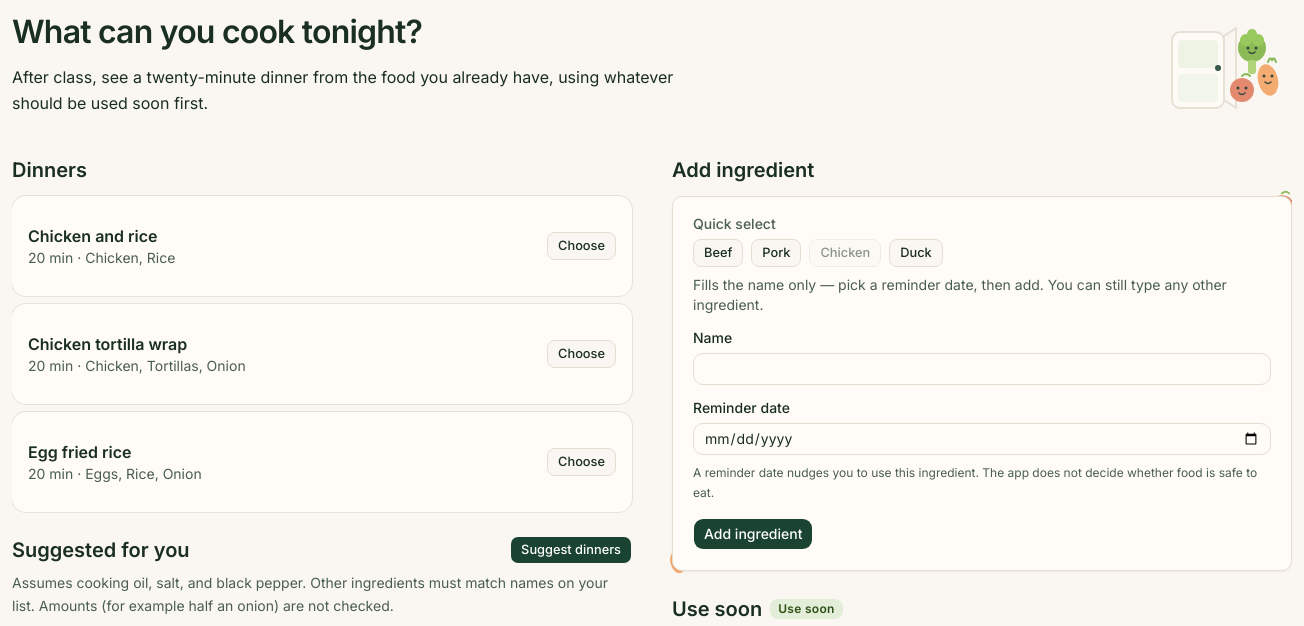
Test case: KitchenApp › rejects a duplicate available ingredient name
Check: the heading "Dinners" is shown, box 12,158 -> 87,182
Type "chicken" into the field labelled "Name" at (982, 369), box 693,353 -> 1271,385
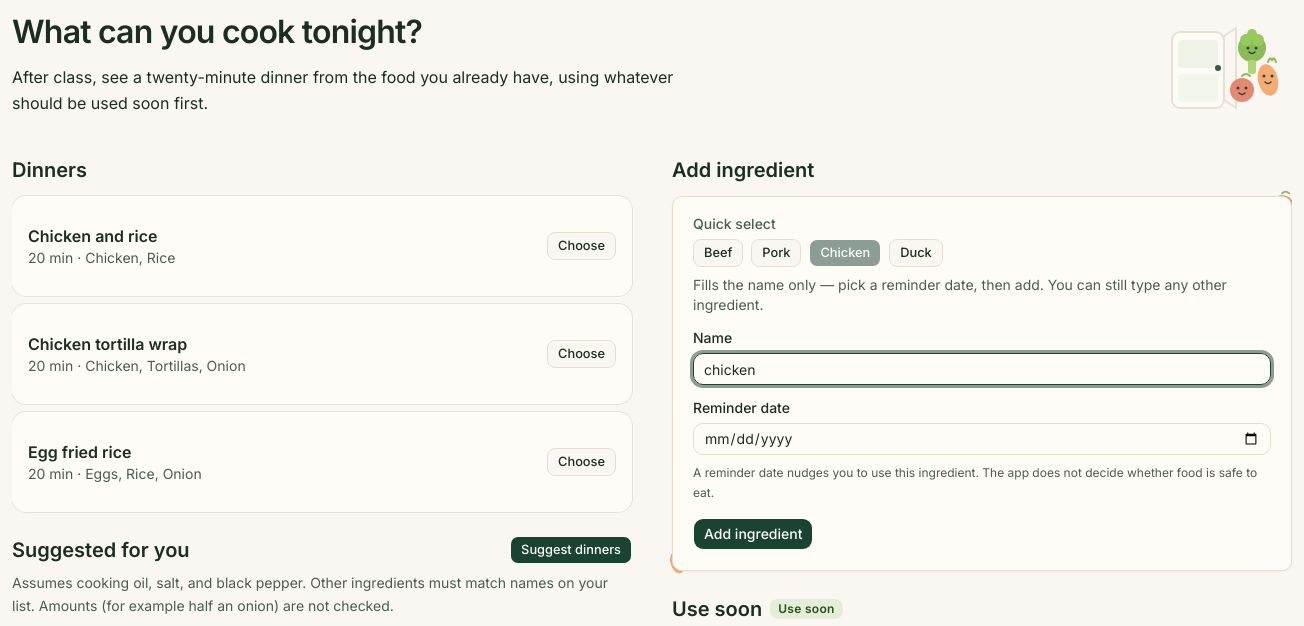
Type "2026-10-10" into the date field labelled "Reminder date" at (982, 439), box 693,423 -> 1271,455
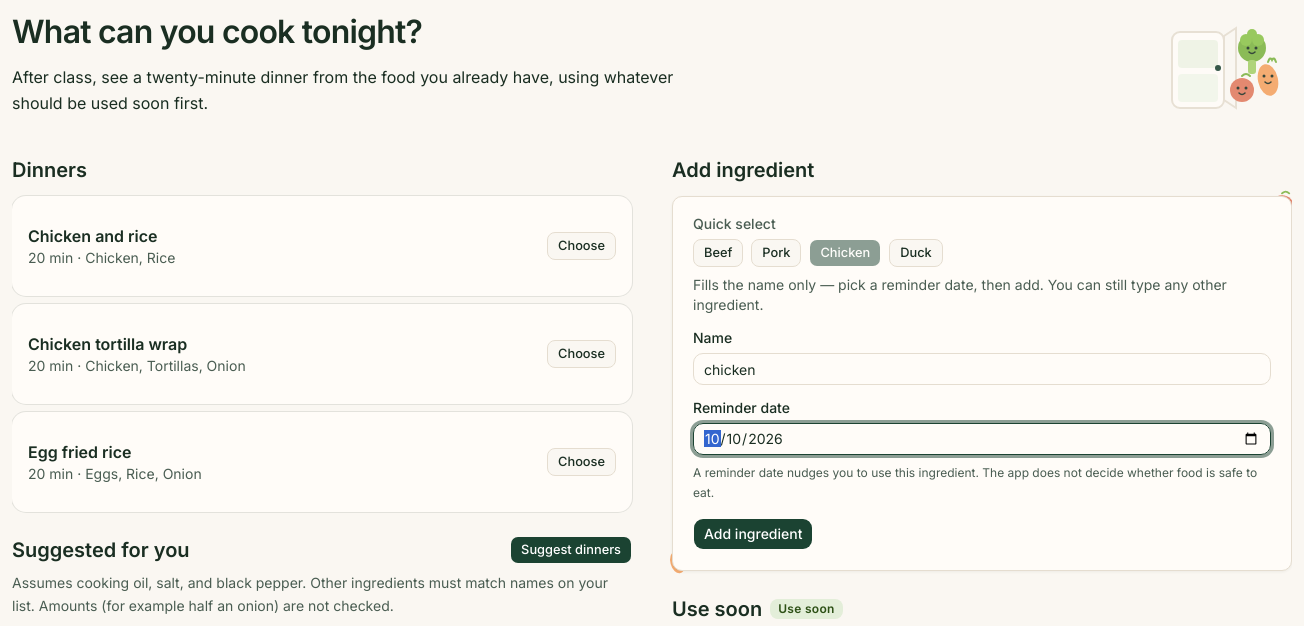
Click the button "Add ingredient" at (753, 534), box 693,518 -> 814,550
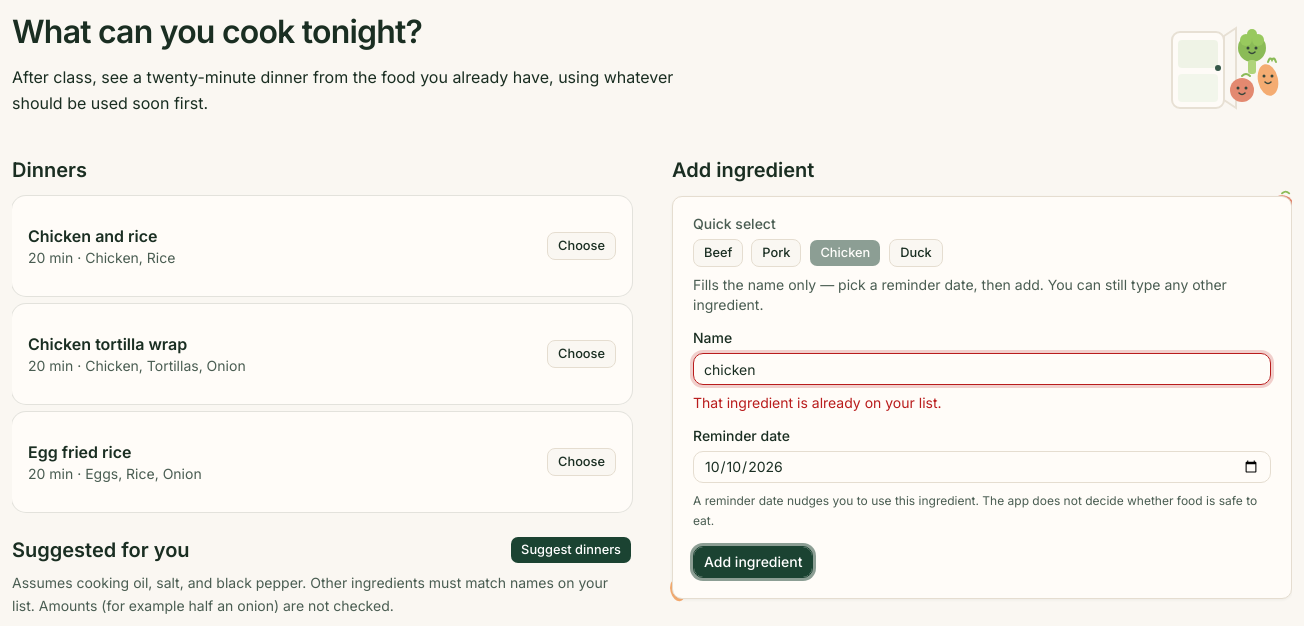
Check: the text "That ingredient is already on your list." is shown, box 693,394 -> 942,411
